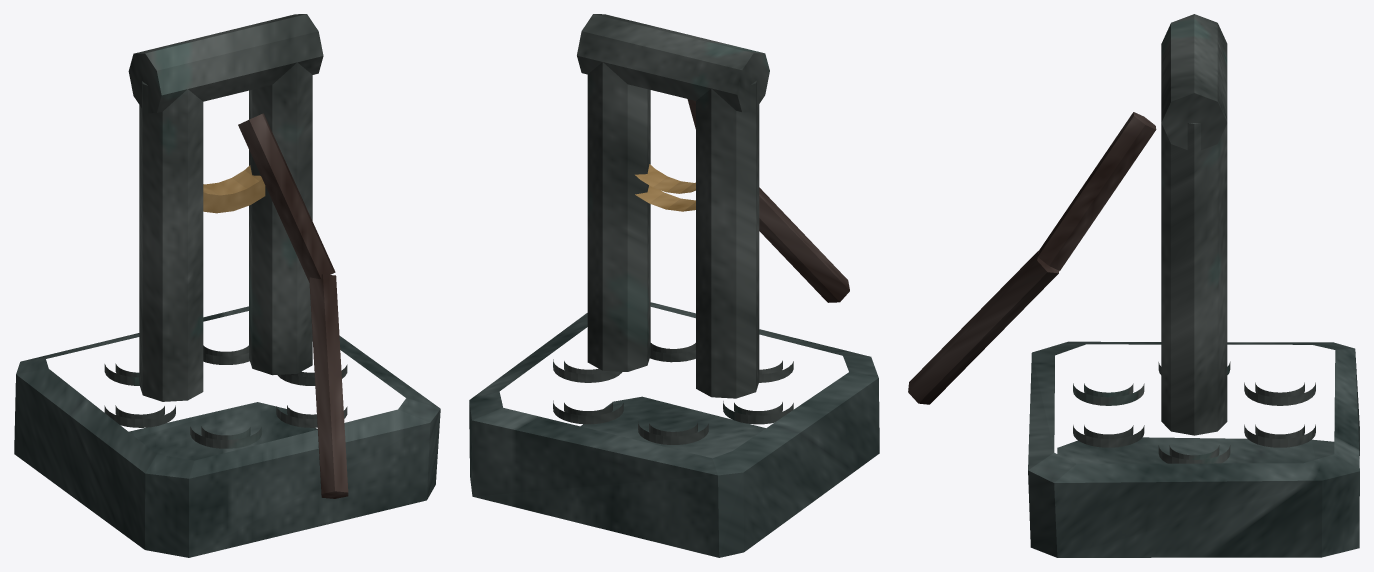
The model's file is 0687_rope_anchor_12.glb.
The picture shows the model from 3 angles, left to right: view 1: azimuth 30°, elevation 25°; view 2: azimuth 150°, elevation 25°; view 3: azimuth 270°, elevation 25°; orthographic projection.
Parts seen in each view (by area): view 1: iron, stone_dark, wood_dark, brass; view 2: iron, stone_dark, wood_dark, brass; view 3: stone_dark, iron, wood_dark.
Boxes of the visible parts, <box> form: iron: <box>104,14,347,448</box>; stone_dark: <box>14,306,440,557</box>; wood_dark: <box>238,113,348,498</box>; brass: <box>203,165,265,213</box>; iron: <box>553,14,793,444</box>; stone_dark: <box>469,302,879,557</box>; wood_dark: <box>687,99,849,302</box>; brass: <box>635,164,695,211</box>; stone_dark: <box>1028,341,1359,557</box>; iron: <box>1073,14,1315,463</box>; wood_dark: <box>908,112,1156,404</box>.
Bounding box in the file's own units: 1.21 × 1.78 × 1.64.
4 materials, 4 textured.
